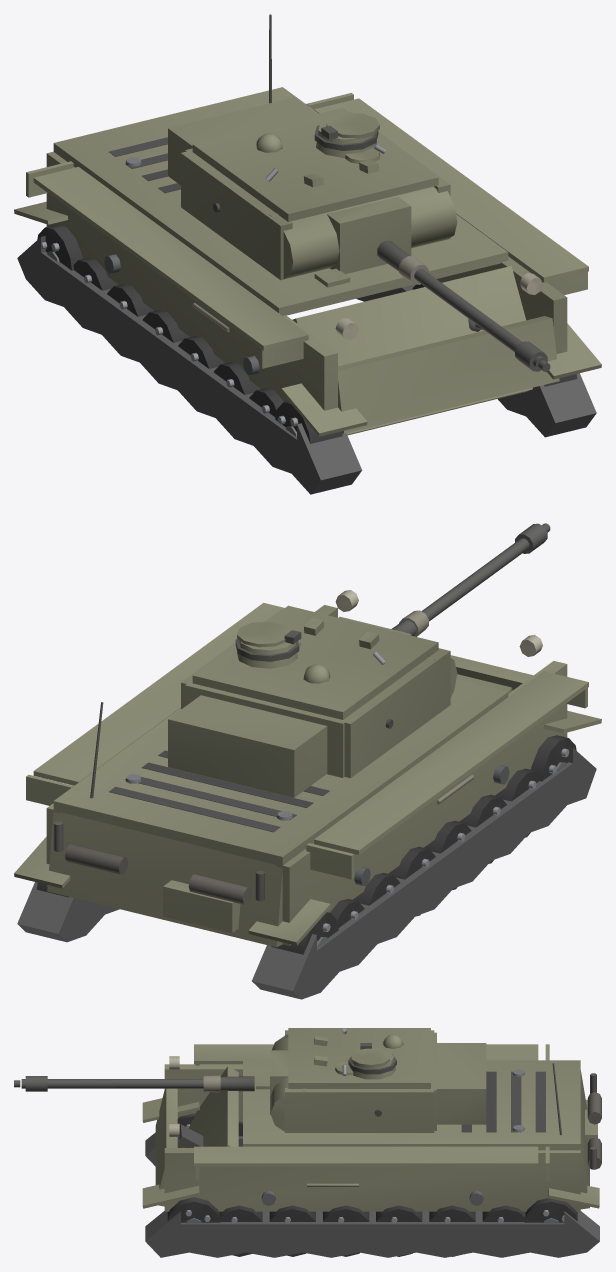
3 views of the same model, one above another, from view 1: azimuth 30°, elevation 25°; view 2: azimuth 150°, elevation 25°; view 3: azimuth 270°, elevation 25° (orthographic). The views are drawn at different scales.
Parts seen in each view (by area): view 1: hullSide, tracks, hullTop, turretRoof, lowerPlate, glacis, turretFront, turretSide, mantlet, barrel, wheel7, wheel6 (+5 smaller); view 2: hullSide, hullTop, tracks, hullRear, turretRoof, turretFront, turretSide, barrel, turretRear, lowerPlate, wheel6, wheel7 (+5 smaller); view 3: hullSide, tracks, hullTop, turretRoof, turretSide, turretFront, glacis, barrel, hullRear, lowerPlate, wheel14, wheel15 (+8 smaller).
Boxes of the visible parts, bbox=[...] form: hullSide: bbox=[26, 93, 588, 410]; tracks: bbox=[14, 201, 601, 494]; hullTop: bbox=[53, 87, 508, 315]; turretRoof: bbox=[192, 107, 438, 221]; lowerPlate: bbox=[338, 316, 559, 433]; glacis: bbox=[292, 266, 532, 435]; turretFront: bbox=[168, 97, 457, 279]; turretSide: bbox=[181, 111, 450, 280]; mantlet: bbox=[327, 197, 411, 273]; barrel: bbox=[377, 240, 550, 371]; wheel7: bbox=[37, 224, 82, 270]; wheel6: bbox=[275, 401, 342, 443]; hullSide: bbox=[26, 590, 588, 945]; hullTop: bbox=[53, 679, 508, 865]; tracks: bbox=[14, 710, 601, 999]; hullRear: bbox=[47, 702, 283, 947]; turretRoof: bbox=[192, 605, 438, 719]; turretFront: bbox=[168, 657, 457, 797]; turretSide: bbox=[181, 609, 450, 778]; barrel: bbox=[391, 523, 550, 636]; turretRear: bbox=[185, 680, 344, 777]; lowerPlate: bbox=[450, 655, 533, 690]; wheel6: bbox=[531, 735, 576, 781]; wheel7: bbox=[271, 912, 338, 954]; hullSide: bbox=[164, 1044, 580, 1211]; tracks: bbox=[142, 1098, 599, 1257]; hullTop: bbox=[243, 1060, 580, 1150]; turretRoof: bbox=[288, 1028, 430, 1088]; turretSide: bbox=[285, 1030, 434, 1132]; turretFront: bbox=[270, 1036, 486, 1131]; glacis: bbox=[178, 1066, 269, 1147]; barrel: bbox=[14, 1075, 254, 1092]; hullRear: bbox=[552, 1063, 601, 1209]; lowerPlate: bbox=[155, 1088, 177, 1206]; wheel14: bbox=[167, 1197, 220, 1223]; wheel15: bbox=[524, 1198, 577, 1223].
Size of the model in its own units: 4.33 by 3 by 9.05.
